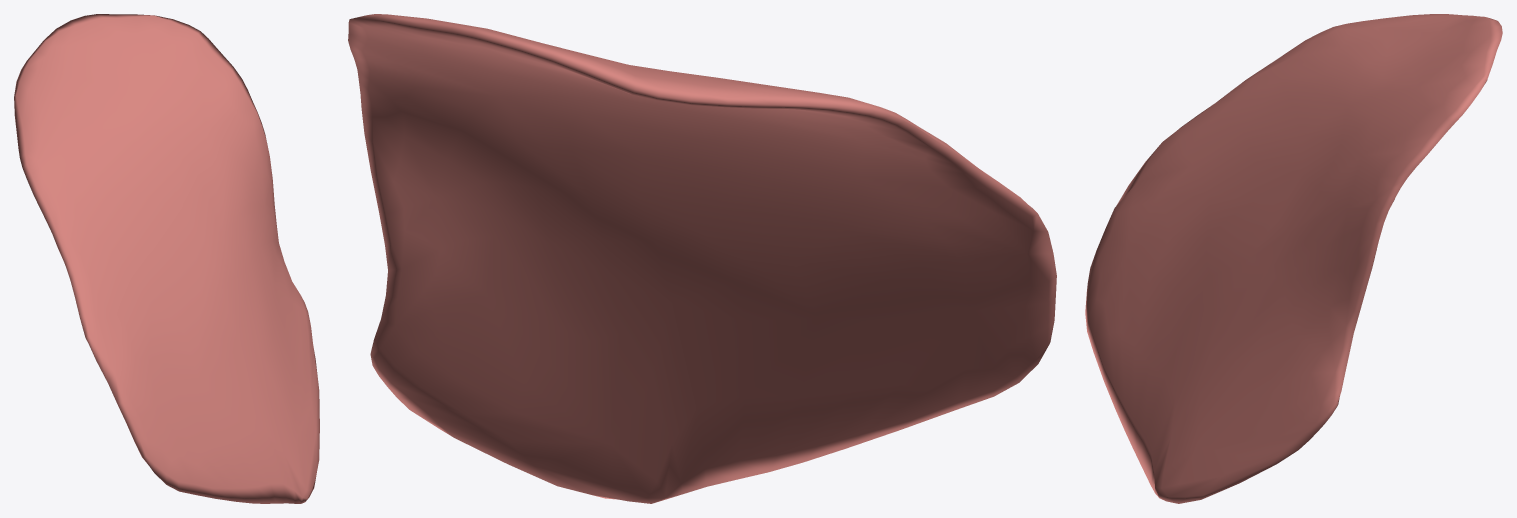
The picture shows the model from 3 angles, left to right: view 1: azimuth 30°, elevation 25°; view 2: azimuth 150°, elevation 25°; view 3: azimuth 270°, elevation 25°; orthographic projection. The views are drawn at different scales.
Parts seen in each view (by area): view 1: ZA_4f930cc965e0ccb4; view 2: ZA_4f930cc965e0ccb4; view 3: ZA_4f930cc965e0ccb4.
Boxes of the visible parts, x1,y1,x2,y2 form: ZA_4f930cc965e0ccb4: (14, 14, 319, 503); ZA_4f930cc965e0ccb4: (348, 14, 1056, 503); ZA_4f930cc965e0ccb4: (1085, 14, 1502, 503).
Size of the model in its own units: 0.0149 by 0.0186 by 0.0164.
